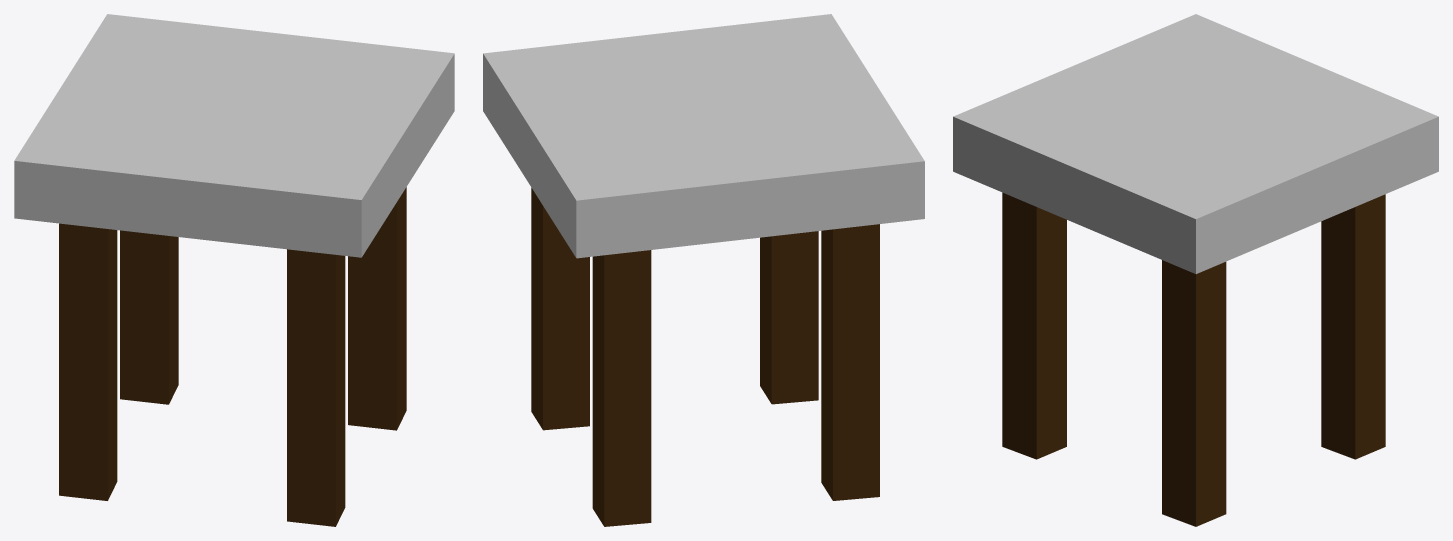
Rendered from model_loc_606_8.obj.
3 views of the same model, side by side, from view 1: azimuth 30°, elevation 25°; view 2: azimuth 150°, elevation 25°; view 3: azimuth 270°, elevation 25° (orthographic). The views are drawn at different scales.
Parts seen in each view (by area): view 1: 1279; view 2: 1279; view 3: 1279.
Part boxes in pixels (<box>): 1279: <box>14,14,454,526</box>; 1279: <box>483,14,924,526</box>; 1279: <box>953,14,1438,526</box>.
Size of the model in its own units: 128 by 96 by 128.
